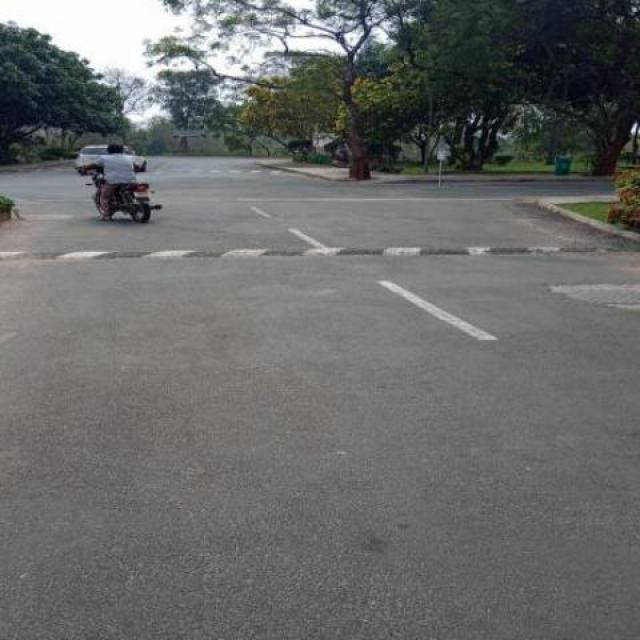Speed Bump: (0, 244, 639, 264)
